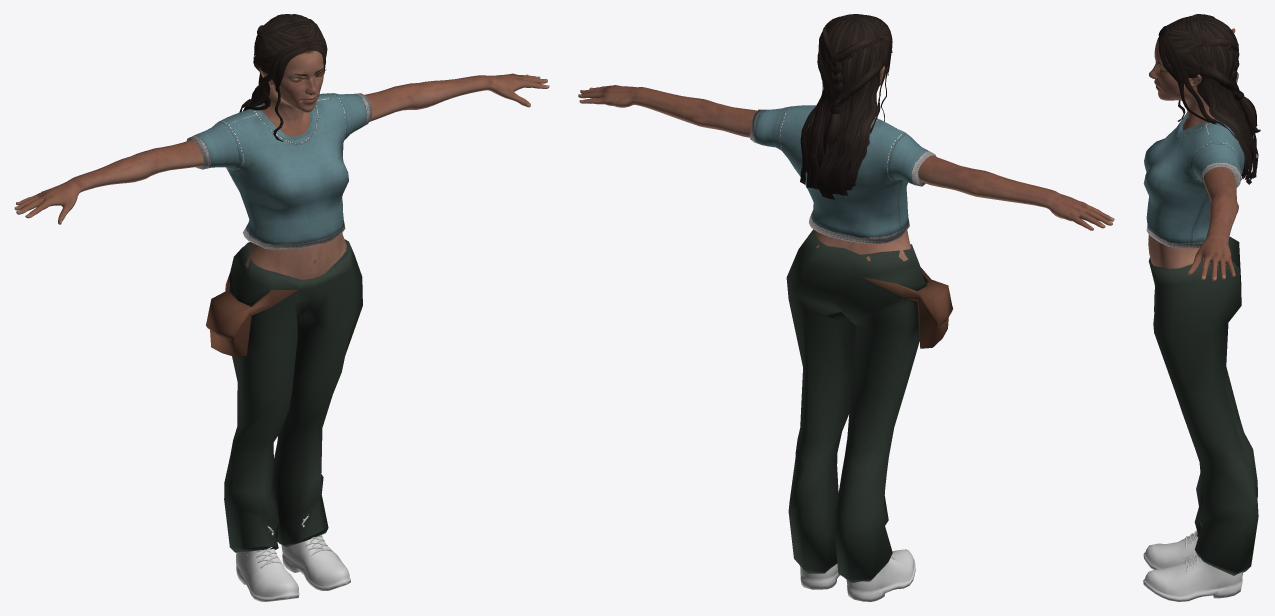
Rendered from mae_um_um.obj.
The picture shows the model from 3 angles, left to right: view 1: azimuth 30°, elevation 25°; view 2: azimuth 150°, elevation 25°; view 3: azimuth 270°, elevation 25°; orthographic projection.
Visible parts, largest first — view 1: Bottoms, Tops, Body, Shoes, Hair; view 2: Bottoms, Hair, Tops, Body, Shoes; view 3: Bottoms, Tops, Hair, Body, Shoes.
Part boxes in pixels (x1,y1,x2,y2): Bottoms: [206, 239, 362, 552]; Tops: [186, 93, 372, 249]; Body: [14, 50, 549, 279]; Shoes: [236, 514, 350, 601]; Hair: [239, 14, 327, 141]; Bottoms: [786, 229, 953, 582]; Hair: [800, 14, 892, 199]; Tops: [750, 105, 936, 244]; Body: [578, 66, 1114, 261]; Shoes: [800, 549, 915, 601]; Bottoms: [1148, 236, 1258, 575]; Tops: [1143, 112, 1244, 248]; Hair: [1158, 14, 1260, 184]; Body: [1148, 28, 1238, 280]; Shoes: [1143, 530, 1242, 601].
Size of the model in its own units: 170 by 172 by 32.64.
